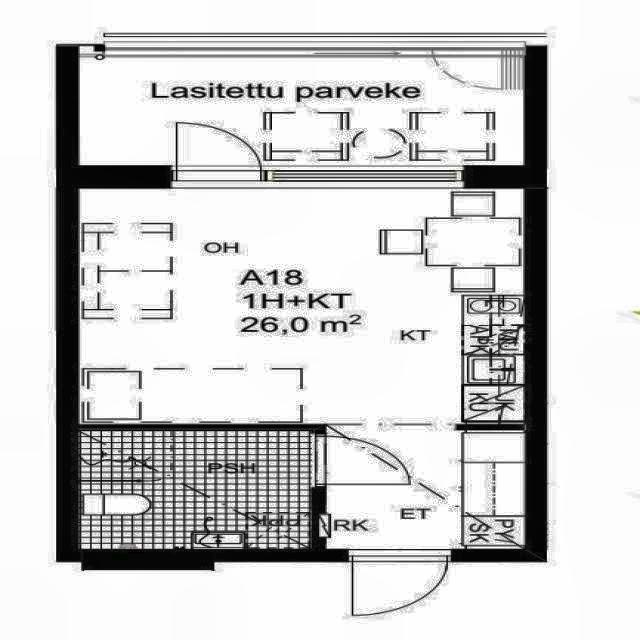room: (80, 45, 526, 189), (80, 424, 327, 549)
